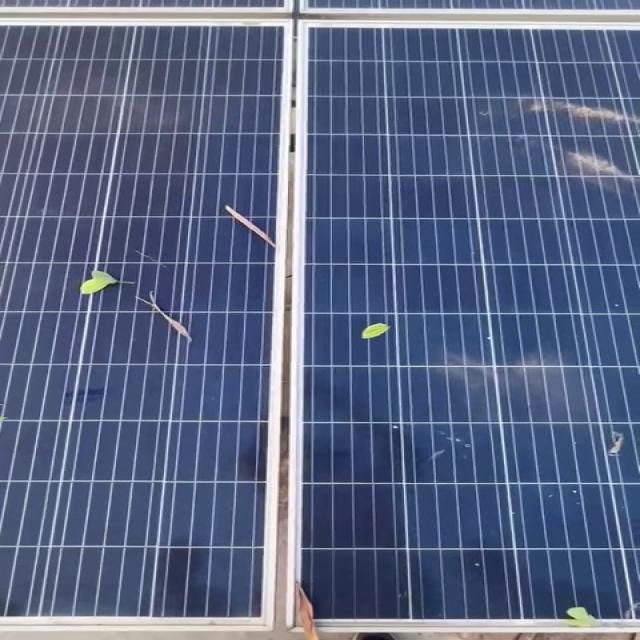bird_dropping: (603, 427, 635, 460)
dust_partical: (430, 338, 620, 408), (0, 65, 211, 125), (481, 70, 640, 132), (522, 131, 640, 202)
old_leaf: (127, 286, 213, 350), (66, 261, 142, 301), (220, 203, 282, 250), (292, 577, 329, 640), (565, 603, 603, 629), (359, 318, 399, 342)
